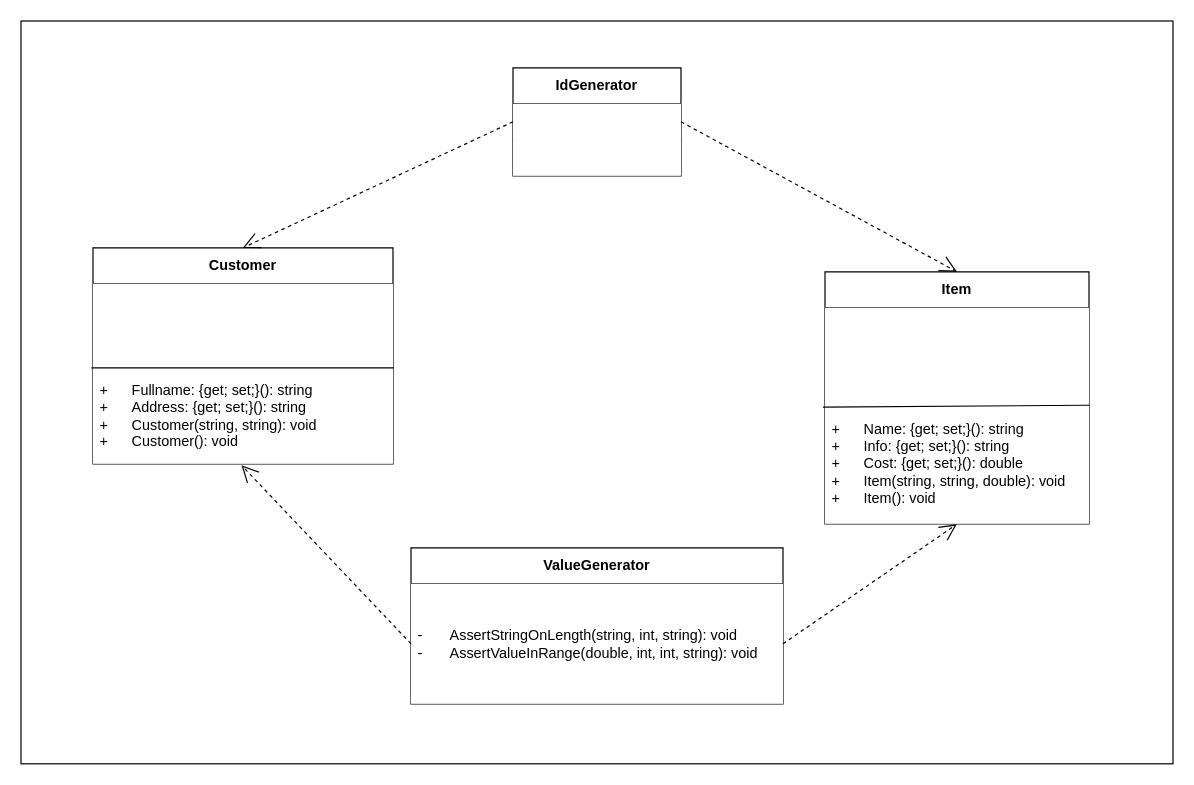
Some shapes in this 1194 by 785 pixel diagram are drawn without their labels. The centre of each missing label's shape, as x and y in pixels:
"- _id: readonly int - _fullname: string - _address: string" belongs at (242,325).
"- _id: readonly int - _name: string - _info: string - _cost: double" belongs at (956,355).
"- _nextId: int" belongs at (596,121).
"- GetNextId(): int" belongs at (596,157).
